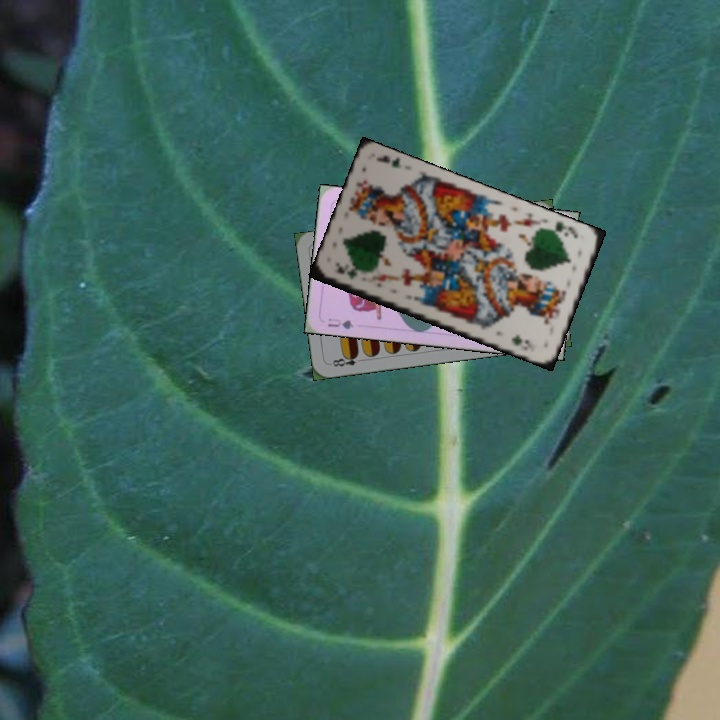E8: (326, 350, 367, 369)
GK: (545, 217, 580, 241), (330, 260, 361, 282)
GU: (323, 314, 357, 332)
